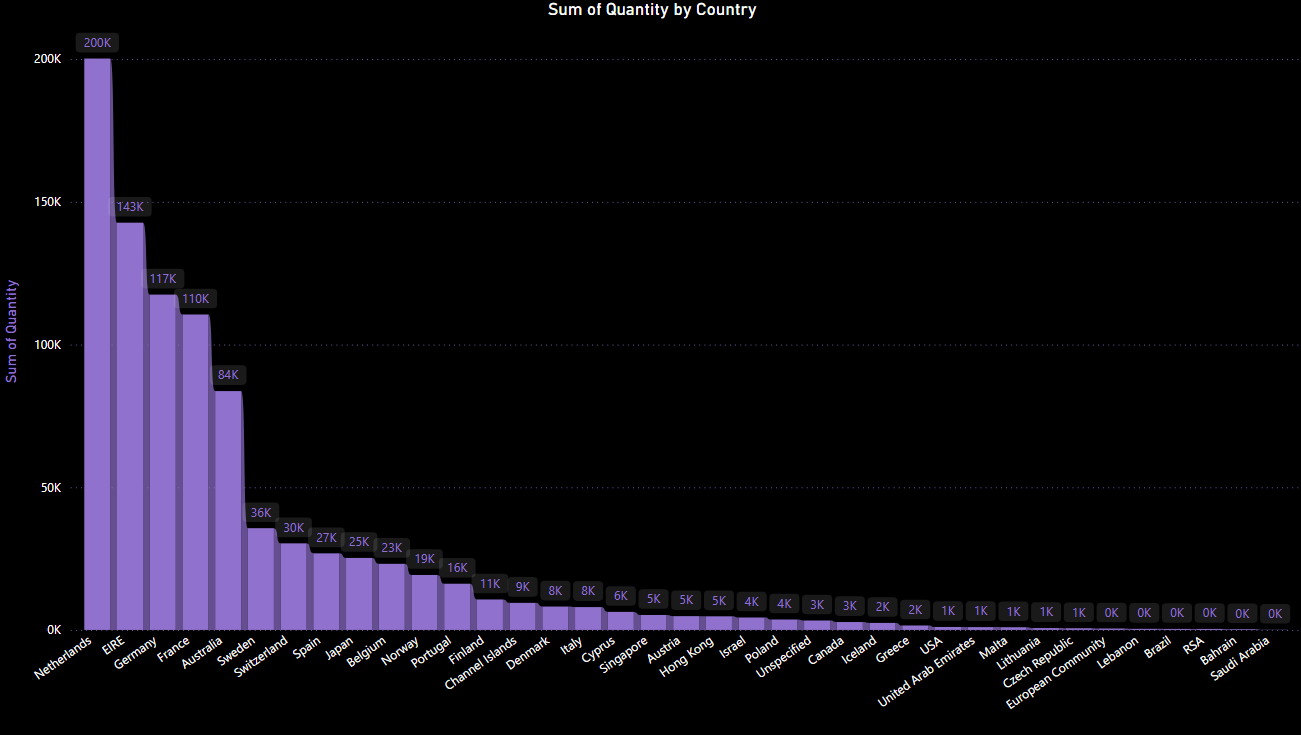

What the dashboard file says about the page in this screenshot:
{"tool":"powerbi","page":{"name":"Question 4","canvas":[1280,720],"ordinal":3},"visuals":[{"type":"columnChart","fields":{"Category":["Online Retail.Country"],"Y":["Sum(Online Retail.Quantity)"]},"box":[0,0,1280.3,720.4],"z":0}]}

Visuals, with their boxes in screenshot pixels (x1, y1, x2, y2), scaled from the page's 1280x720 canvas onto the 1301x735 screenshot:
columnChart - Online Retail.Country x Sum(Online Retail.Quantity): bbox(0, 0, 1300, 734)
